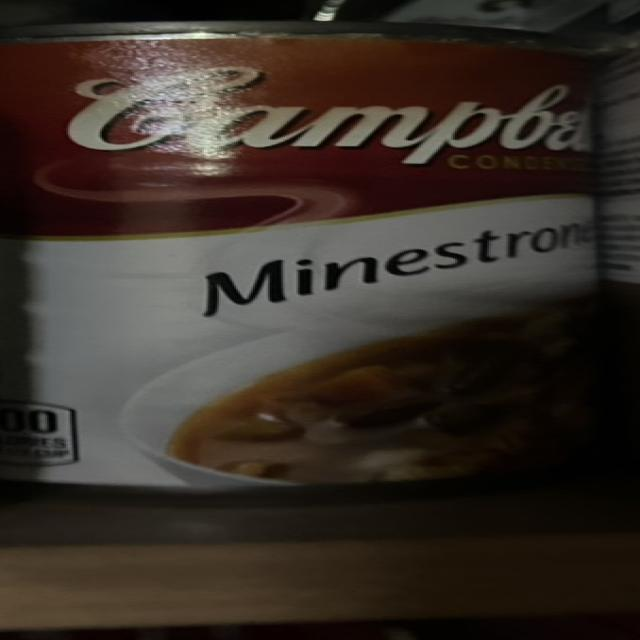can: (11, 0, 640, 505)
